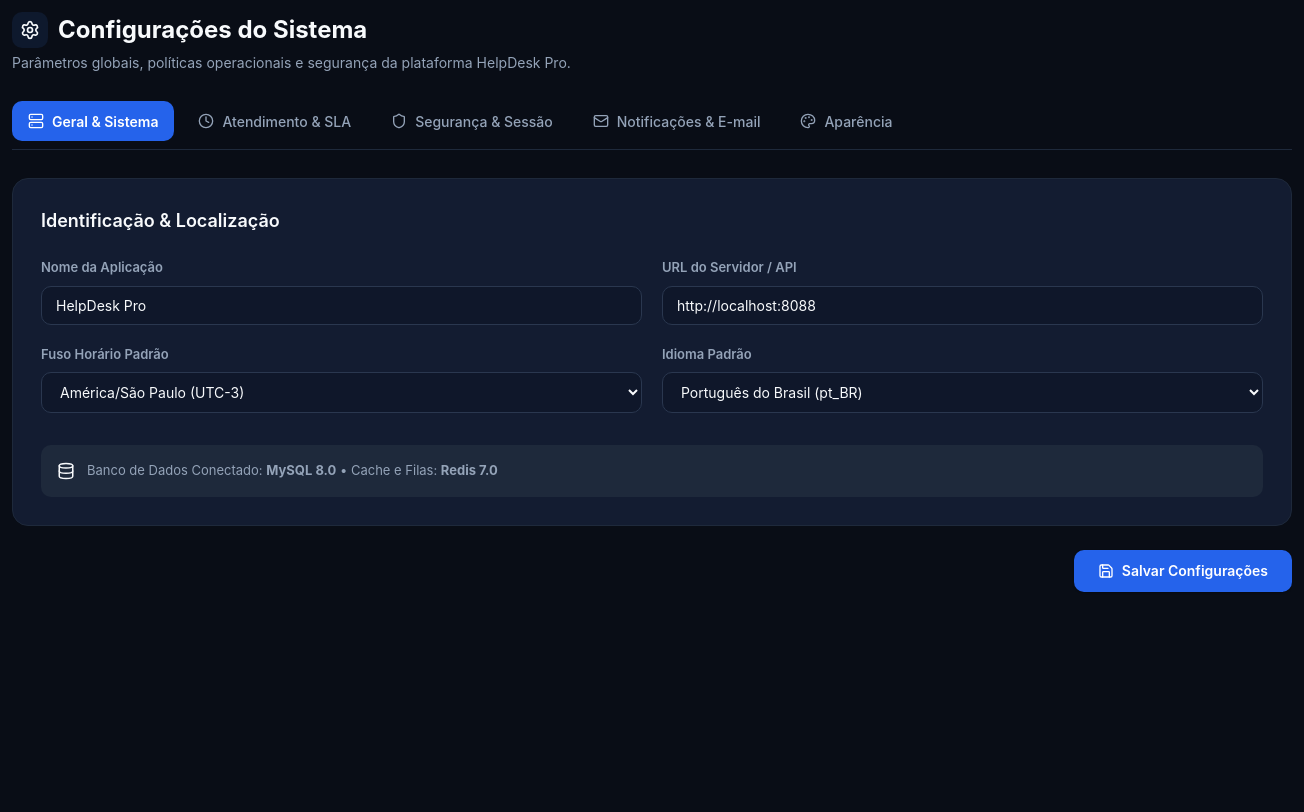
SettingsPage › dispara o salvamento e exibe o feedback visual de sucesso
Click the button "Salvar Configurações": x=1183, y=570 1074,550 -> 1292,592
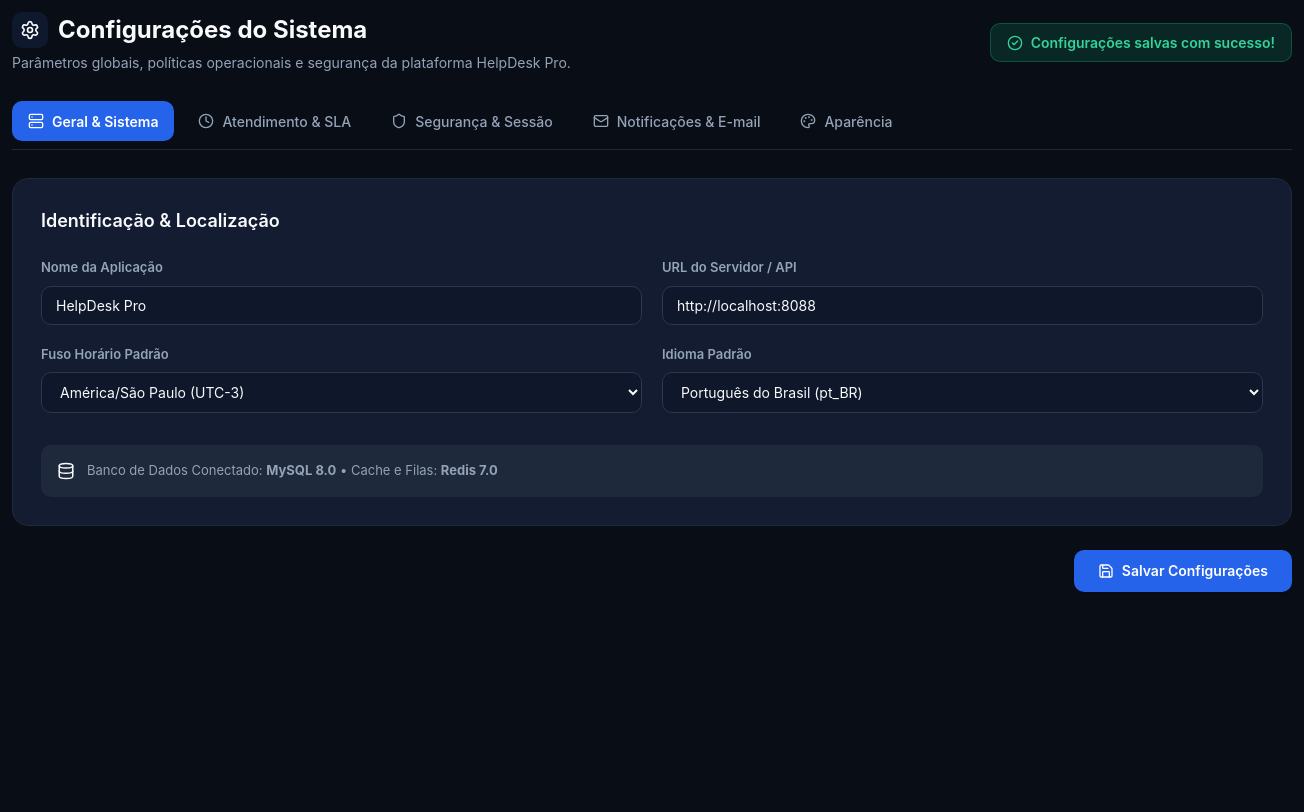
Expected: the text "Configurações salvas com sucesso!" is shown, 990,23 -> 1292,62
